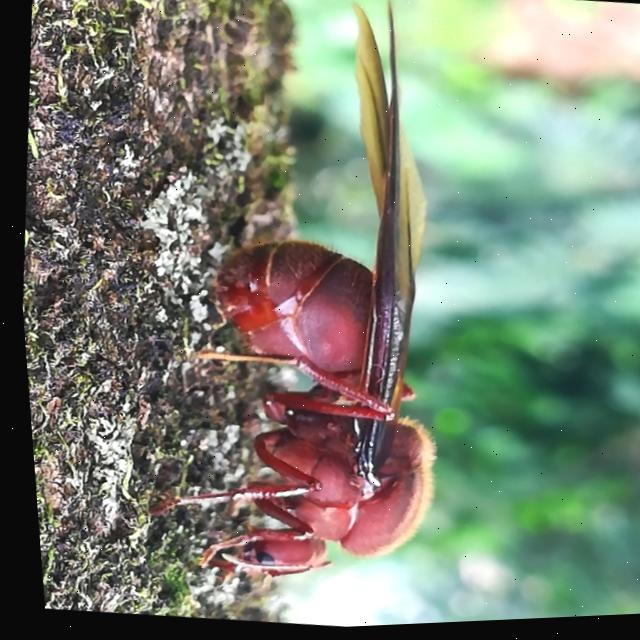Alive-Female-Alate: (96, 0, 486, 637)
